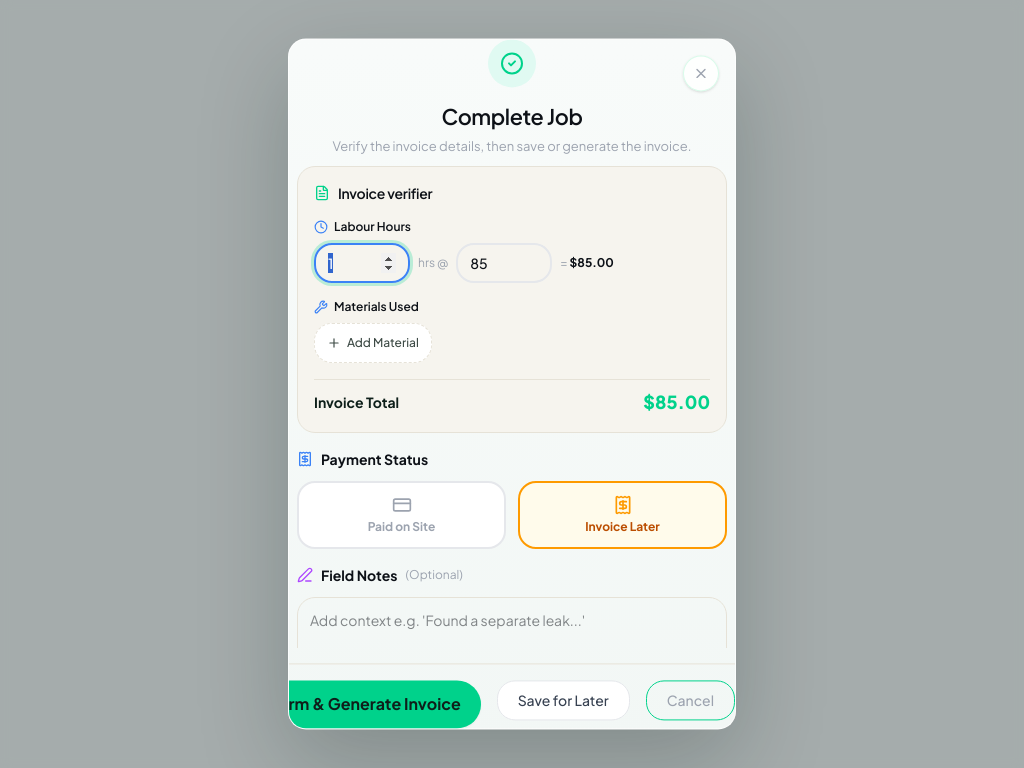
Test case: Tradie JobCompletionModal › uses clearer next-step copy once the job is completed
Click the button "Confirm & Generate Invoice". click: [354, 705]
box: [226, 681, 481, 729]
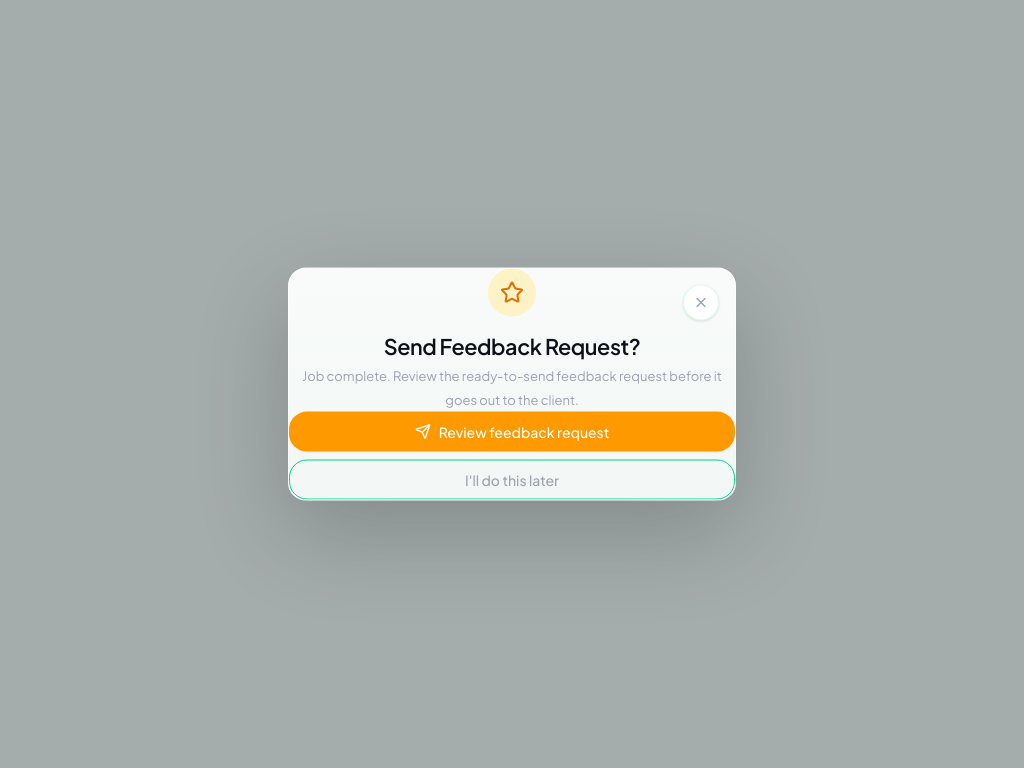
Now the text "review the ready-to-send feedback request before it goes out to the client" is shown, box [302, 368, 722, 408]
Now the button "Review feedback request" is shown, box [289, 412, 735, 452]
Now the button "I'll do this later" is shown, box [289, 460, 735, 500]
